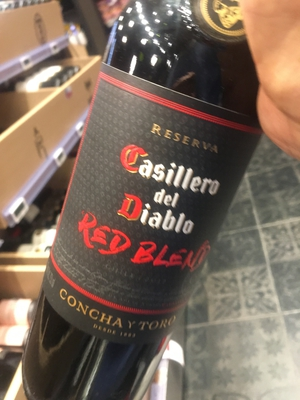casillero del diablo red blend: (37, 31, 264, 396)
